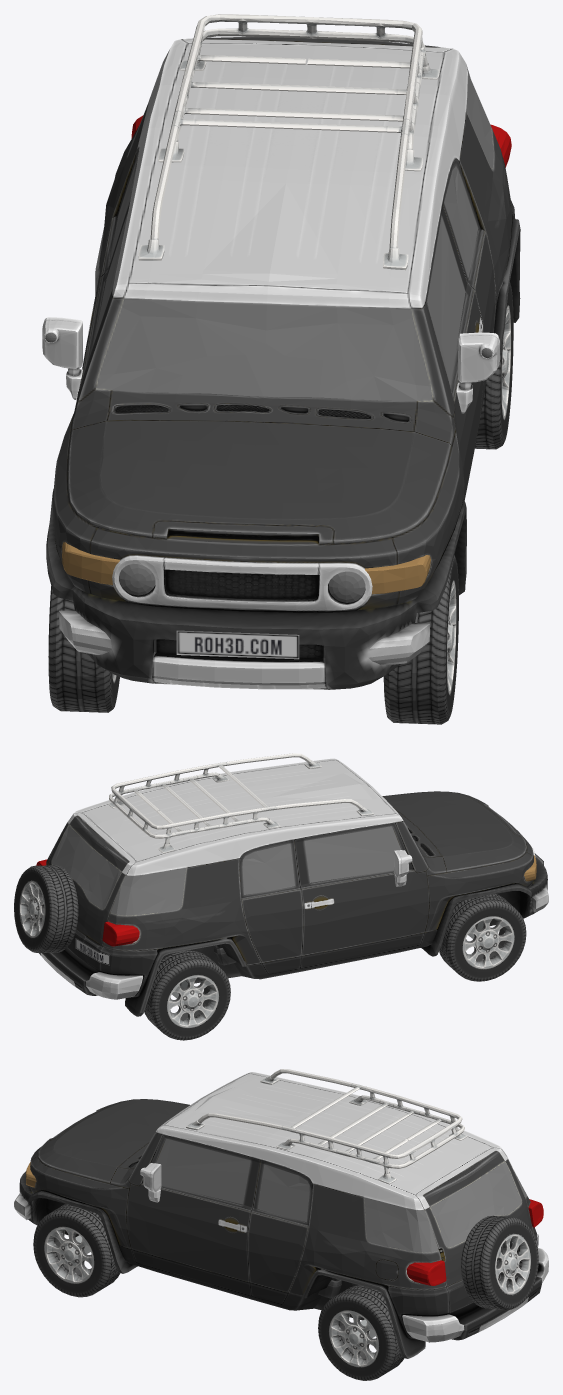
File: LOKI.glb
3 renders of one model, top to bottom at view 1: azimuth 30°, elevation 25°; view 2: azimuth 150°, elevation 25°; view 3: azimuth 270°, elevation 25°, orthographic. The views are drawn at different scales.
Parts seen in each view (by area): view 1: Object_4; view 2: Object_4; view 3: Object_4.
Part boxes in pixels (x1,y1,x2,y2): Object_4: [42, 14, 520, 724]; Object_4: [14, 753, 548, 1040]; Object_4: [14, 1069, 548, 1380].
Bounding box in the file's own units: 3.38 × 1.76 × 4.
Materials: 1 (1 with a texture image).
